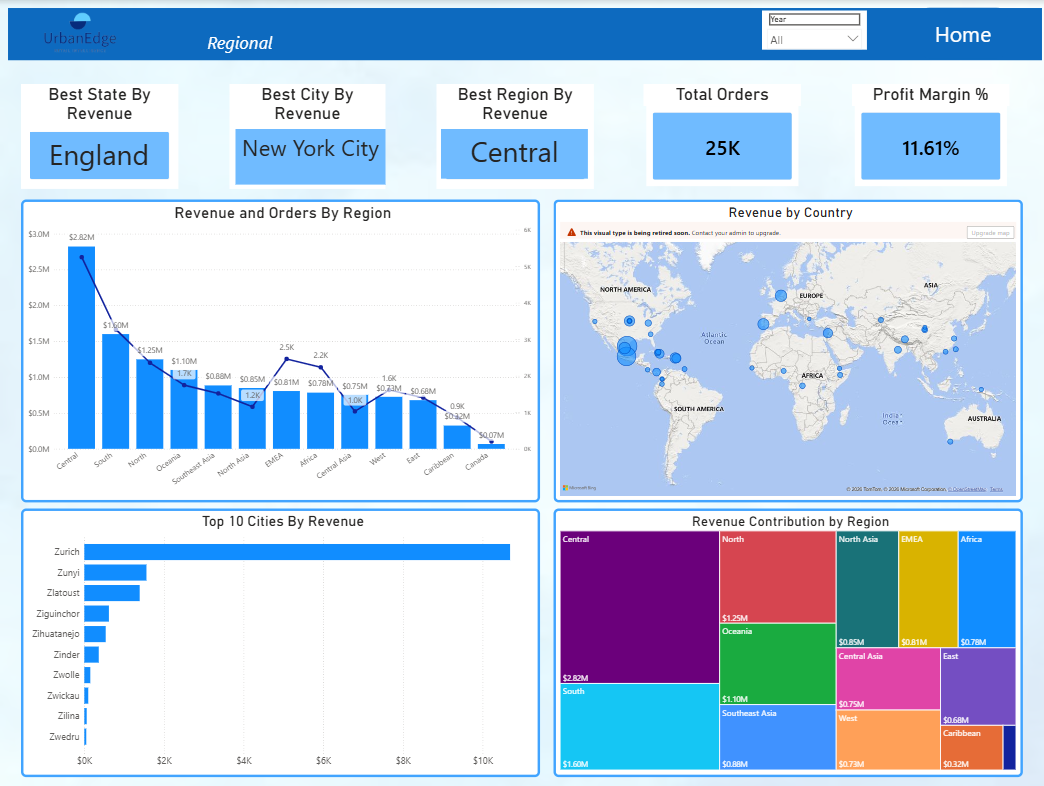

The page's visual inventory and layout, read from the dashboard file:
{"tool":"powerbi","page":{"name":"Regional Analysis","canvas":[2000,1500],"ordinal":2},"visuals":[{"type":"shape","box":[0,0,2001.3,114.4],"z":0},{"type":"actionButton","box":[1746.9,14.3,177.3,100.1],"z":1000},{"type":"slicer","fields":{"Values":["Global_Superstore2.Year"]},"box":[1452.4,20,200.1,74.3],"z":2000},{"type":"image","box":[40,0,225.9,134.4],"z":3000},{"type":"actionButton","box":[375.6,40.9,165.5,78.1],"z":4000},{"type":"cardVisual","title":"Total Orders","fields":{"Data":["Global_Superstore2.Total orders"]},"box":[1227.1,160.1,300.2,200.1],"z":5000},{"type":"cardVisual","title":"Profit Margin %","fields":{"Data":["Global_Superstore2.Profit Margin %"]},"box":[1623.9,160.1,300.2,200.1],"z":6000},{"type":"cardVisual","title":"Best State By Revenue","fields":{"Data":["Global_Superstore2.Total revenue"]},"box":[40,160.1,300,200.1],"z":7000},{"type":"textbox","box":[57.2,251.6,263,88.6],"z":8000},{"type":"cardVisual","title":"Best City By Revenue","fields":{"Data":["Global_Superstore2.Total revenue"]},"box":[436.6,160.1,297.3,200.1],"z":9000},{"type":"textbox","box":[448.9,245.9,285.9,105.8],"z":10000},{"type":"cardVisual","title":"Best Region By Revenue","fields":{"Data":["Global_Superstore2.Total revenue"]},"box":[830.5,160.1,300,200.1],"z":11000},{"type":"textbox","box":[840.6,245.9,280.2,94.3],"z":12000},{"type":"lineClusteredColumnComboChart","title":"Revenue and Orders By Region","fields":{"Category":["Global_Superstore2.Region"],"Y":["Global_Superstore2.Total revenue"],"Y2":["Global_Superstore2.Total orders"]},"box":[40,380.2,989.2,577.5],"z":13000},{"type":"map","title":"Revenue by Country","fields":{"Category":["Global_Superstore2.Country"],"Size":["Global_Superstore2.Total revenue"]},"box":[1055,380.2,894.9,577.5],"z":14000},{"type":"clusteredBarChart","title":"Top 10 Cities By Revenue","fields":{"Category":["Global_Superstore2.City"],"Y":["Global_Superstore2.Total revenue"]},"box":[40,969.2,989.2,511.8],"z":15000},{"type":"treemap","title":"Revenue Contribution by Region","fields":{"Group":["Global_Superstore2.Region"],"Values":["Global_Superstore2.Total revenue"]},"box":[1055,969.2,894.9,511.8],"z":16000}]}

Visuals, with their boxes in screenshot pixels (x1, y1, x2, y2), scaled from the page's 2000x1500 canvas onto the 1044x786 screenshot:
shape: 0 0 1043 60
actionButton: 912 7 1004 60
slicer - Global_Superstore2.Year: 758 10 863 49
image: 21 0 139 70
actionButton: 196 21 282 62
"Total Orders" cardVisual: 641 84 797 189
"Profit Margin %" cardVisual: 848 84 1004 189
"Best State By Revenue" cardVisual: 21 84 177 189
textbox: 30 132 167 178
"Best City By Revenue" cardVisual: 228 84 383 189
textbox: 234 129 384 184
"Best Region By Revenue" cardVisual: 434 84 590 189
textbox: 439 129 585 178
"Revenue and Orders By Region" lineClusteredColumnComboChart: 21 199 537 502
"Revenue by Country" map: 551 199 1018 502
"Top 10 Cities By Revenue" clusteredBarChart: 21 508 537 776
"Revenue Contribution by Region" treemap: 551 508 1018 776
